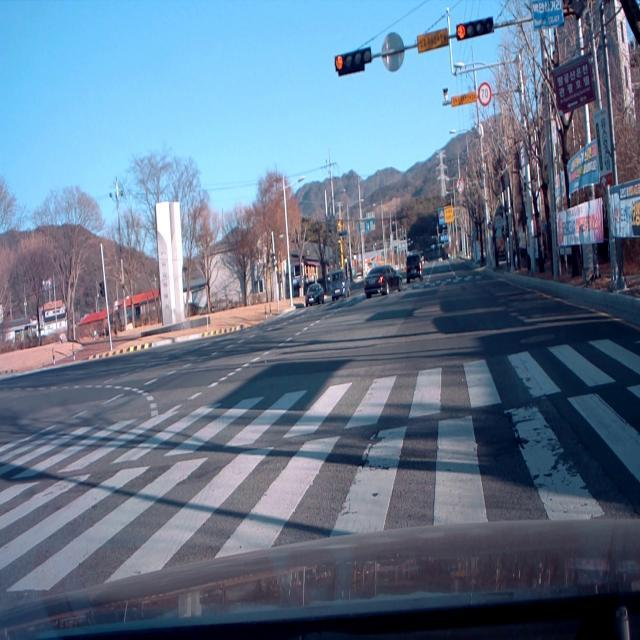crosswalk: (2, 331, 639, 597), (281, 269, 492, 319)
